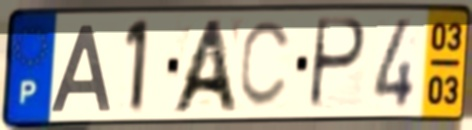1: (121, 16, 153, 117)
4: (370, 14, 417, 112)
A: (166, 16, 242, 115), (48, 21, 113, 114)
C: (236, 18, 295, 112)
P: (305, 15, 370, 113)
